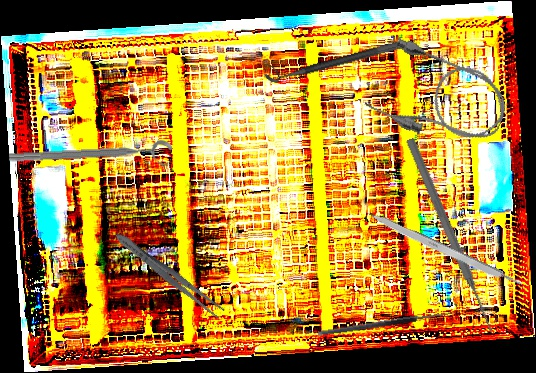Cannula: (361, 33, 517, 161)
Dressing Forceps: (111, 228, 227, 321)
Fixation Ring: (260, 27, 407, 86), (8, 139, 173, 176)
Hook Surgical: (316, 302, 459, 337)
Pusher: (403, 136, 498, 335)
Scalpel Handle: (364, 209, 526, 292)
